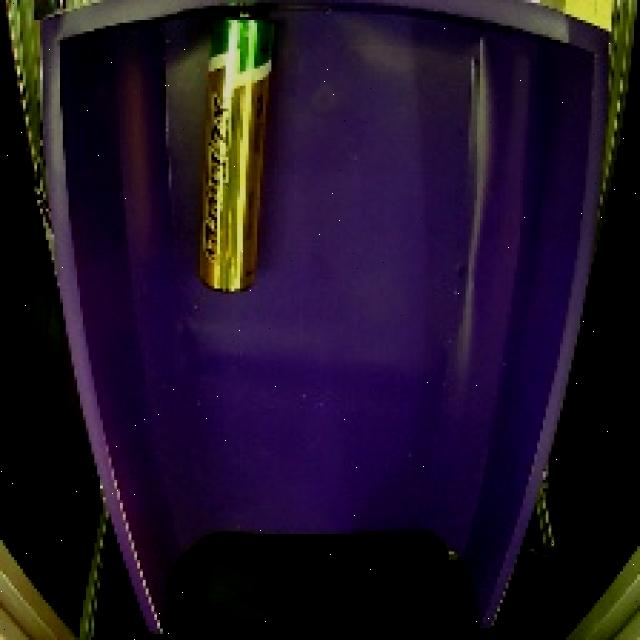battery: (184, 4, 293, 305)
